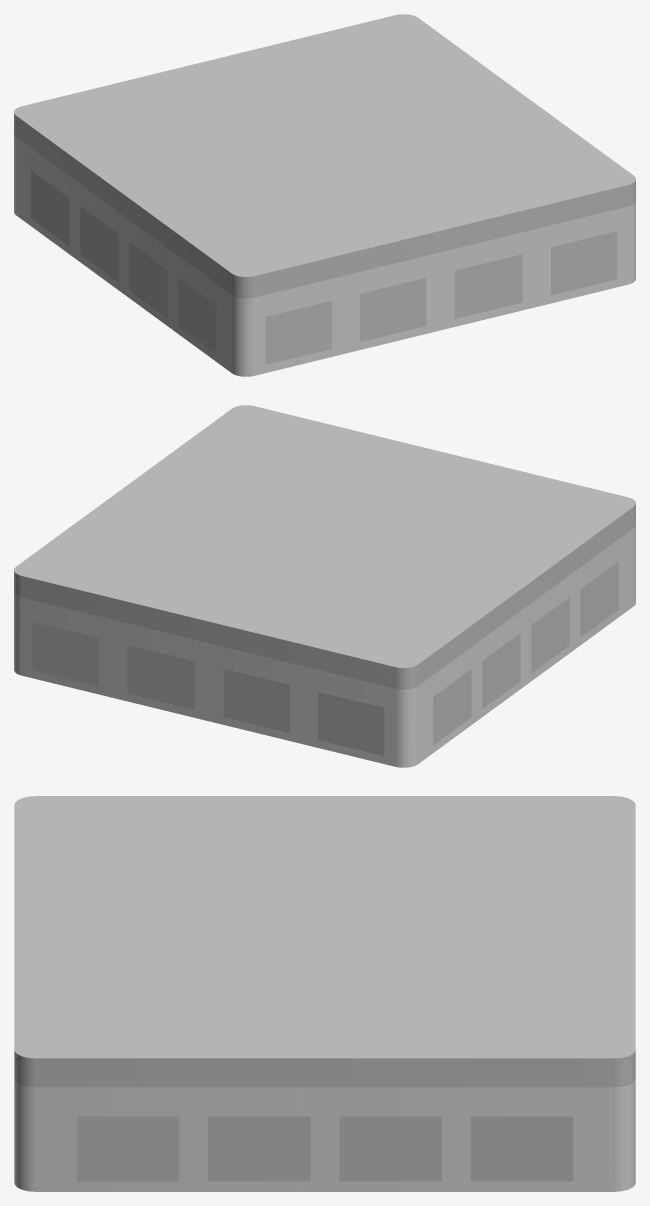
The model's file is House B.fbx.
3 views of the same model, one above another, from view 1: azimuth 30°, elevation 25°; view 2: azimuth 150°, elevation 25°; view 3: azimuth 270°, elevation 25° (orthographic). The views are drawn at different scales.
Parts seen in each view (by area): view 1: House B Roof, House B; view 2: House B Roof, House B; view 3: House B Roof, House B.
Boxes of the visible parts, <box> form: House B Roof: <box>14,14,635,298</box>; House B: <box>14,135,635,376</box>; House B Roof: <box>14,405,635,689</box>; House B: <box>14,526,635,767</box>; House B Roof: <box>14,796,635,1087</box>; House B: <box>14,1079,635,1191</box>.
Bounding box in the file's own units: 1164 × 276 × 1165.
